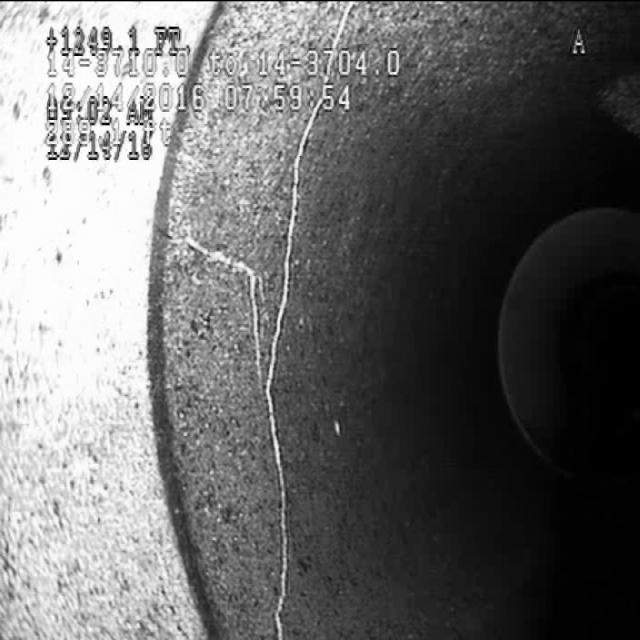Crack: (203, 200, 329, 620)
